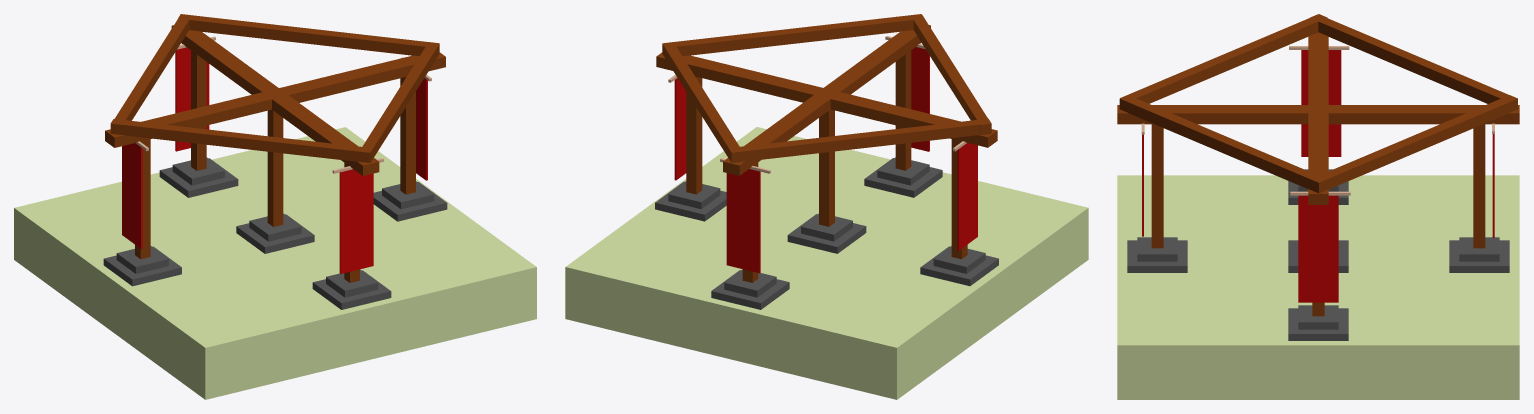
Rendered from Market.obj.
3 renders of one model, left to right at view 1: azimuth 30°, elevation 25°; view 2: azimuth 150°, elevation 25°; view 3: azimuth 270°, elevation 25°, orthographic. The views are drawn at different scales.
Visible parts, largest first — view 1: Tilebase104, Box667, Box666, Box669, Box668, Box678, Box671, Box670, Box676, Box661, Box662, Box672 (+13 smaller); view 2: Tilebase104, Box667, Box666, Box671, Box670, Box672, Box668, Box669, Box676, Box661, Box662, Box678 (+13 smaller); view 3: Tilebase104, Box666, Box674, Box671, Box668, Box670, Box669, Box667, Box676, Box665, Box664, Box683 (+7 smaller).
Boxes of the visible parts, x1,y1,x2,y2 form: Tilebase104: (14,127,536,399); Box667: (105,52,445,147); Box666: (171,25,379,175); Box669: (110,119,369,162); Box668: (178,14,439,56); Box678: (339,169,373,273); Box671: (360,42,439,162); Box670: (111,15,190,134); Box676: (122,143,142,248); Box661: (267,109,283,226); Box662: (400,77,415,194); Box672: (175,47,209,151); Tilebase104: (565,127,1088,399); Box667: (656,52,997,147); Box666: (723,25,930,175); Box671: (662,14,923,57); Box670: (730,119,991,161); Box672: (726,169,760,273); Box668: (662,42,742,162); Box669: (911,14,991,134); Box676: (957,143,977,250); Box661: (819,109,834,226); Box662: (686,76,702,194); Box678: (911,47,929,151); Tilebase104: (1117,175,1519,399); Box666: (1117,105,1519,124); Box674: (1298,195,1338,302); Box671: (1119,95,1327,193); Box668: (1311,95,1517,189); Box670: (1310,14,1516,103); Box669: (1120,14,1327,103); Box667: (1308,32,1328,204); Box676: (1301,50,1341,156); Box665: (1151,124,1163,248); Box664: (1473,124,1485,248); Box683: (1449,240,1509,272).
Size of the model in its own units: 10 by 5.94 by 10.
